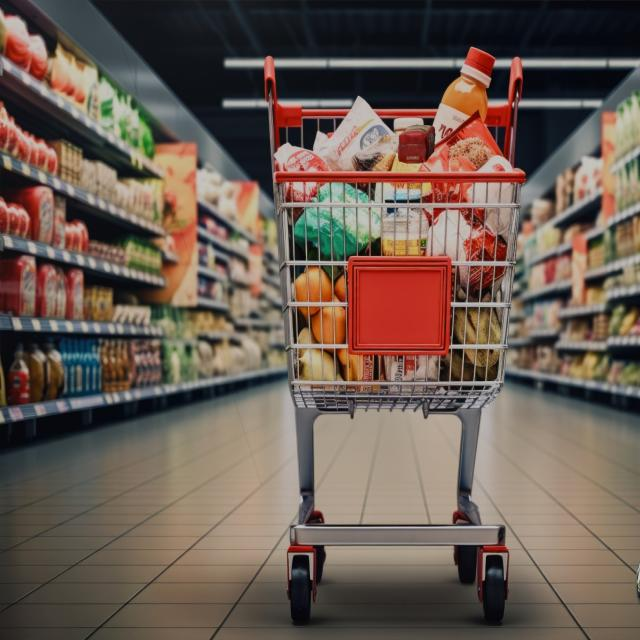mate bag: (398, 121, 435, 161)
